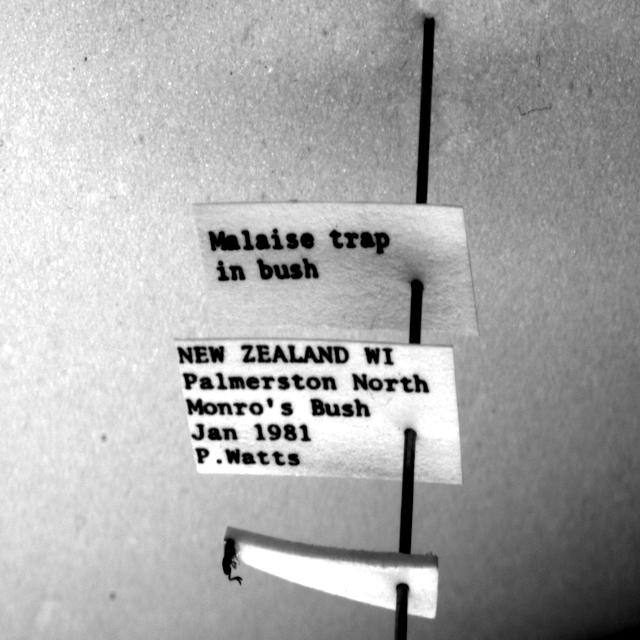typed_label: (175, 339, 461, 484), (195, 202, 479, 336)
